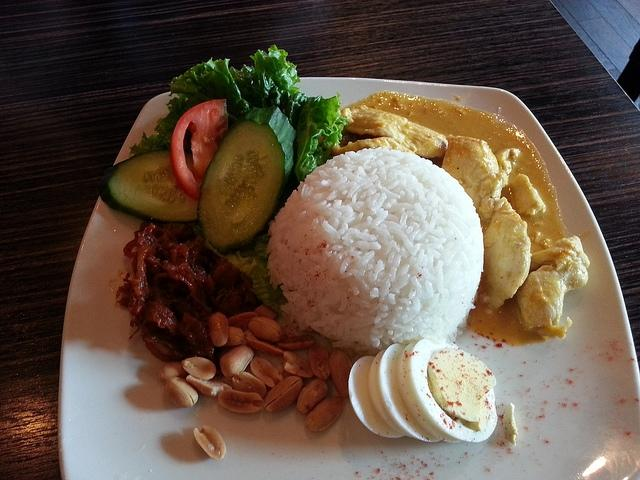cucumber: (198, 106, 296, 255), (98, 150, 198, 224)
lettuce: (294, 92, 342, 183), (247, 44, 301, 108), (265, 85, 309, 132), (229, 64, 255, 102)
tomato: (170, 100, 228, 200)
